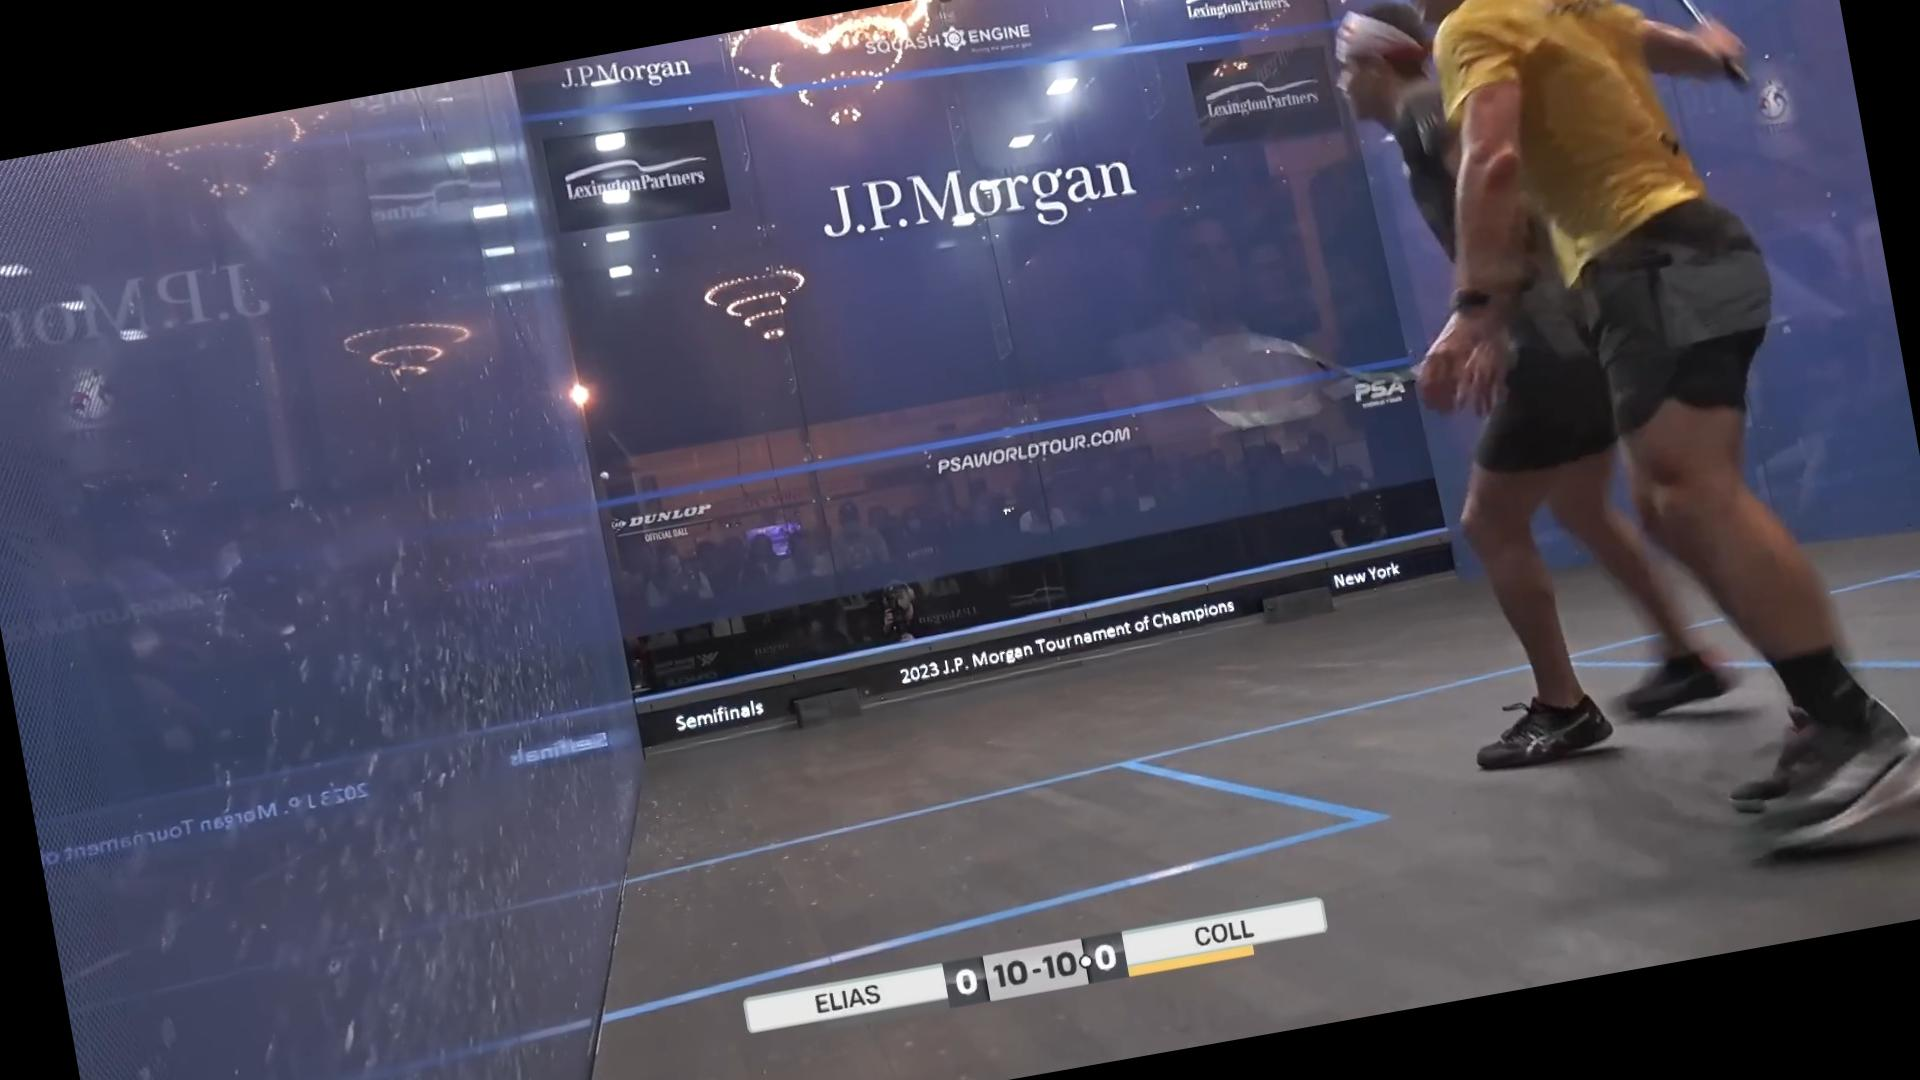Racket: (1183, 293, 1447, 455), (1549, 0, 1760, 105)
